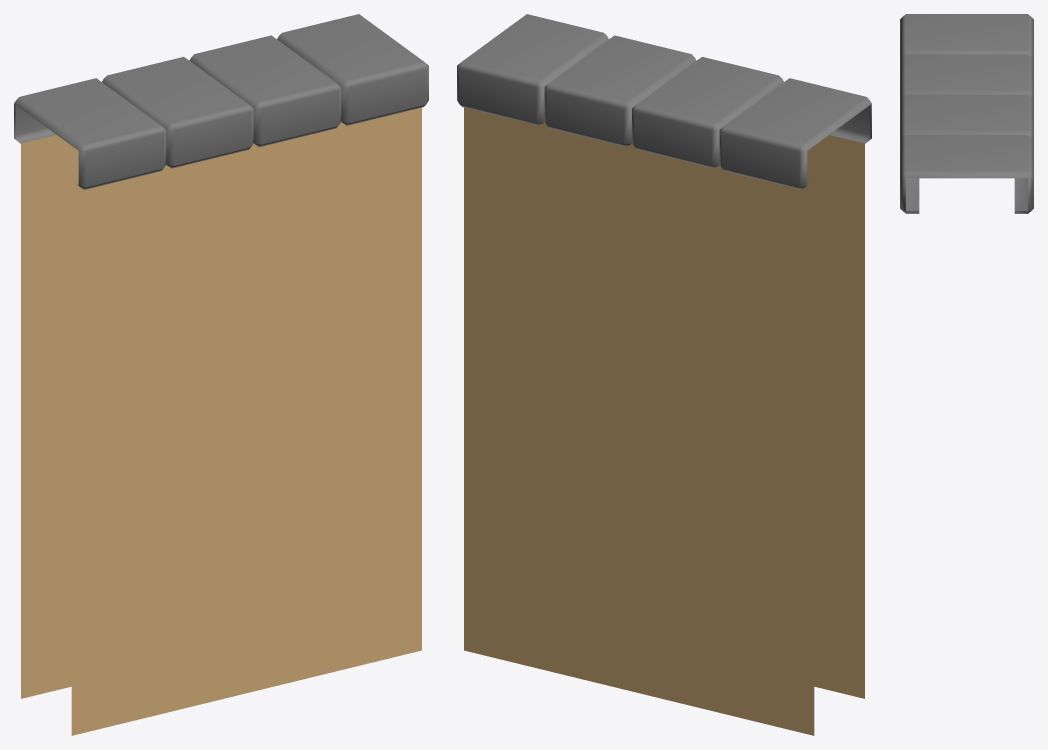
File: SM_WallB_4x6_LOD0.fbx
The picture shows the model from 3 angles, left to right: view 1: azimuth 30°, elevation 25°; view 2: azimuth 150°, elevation 25°; view 3: azimuth 270°, elevation 25°; orthographic projection. The views are drawn at different scales.
Parts seen in each view (by area): view 1: SM_WallB_4x6_LOD0; view 2: SM_WallB_4x6_LOD0; view 3: SM_WallB_4x6_LOD0.
Boxes of the visible parts, left/top/right/bottom form: SM_WallB_4x6_LOD0: left=14, top=14, right=428, bottom=735; SM_WallB_4x6_LOD0: left=457, top=14, right=871, bottom=735; SM_WallB_4x6_LOD0: left=900, top=14, right=1033, bottom=213.
Size of the model in its own units: 4 by 6.5 by 1.4.
